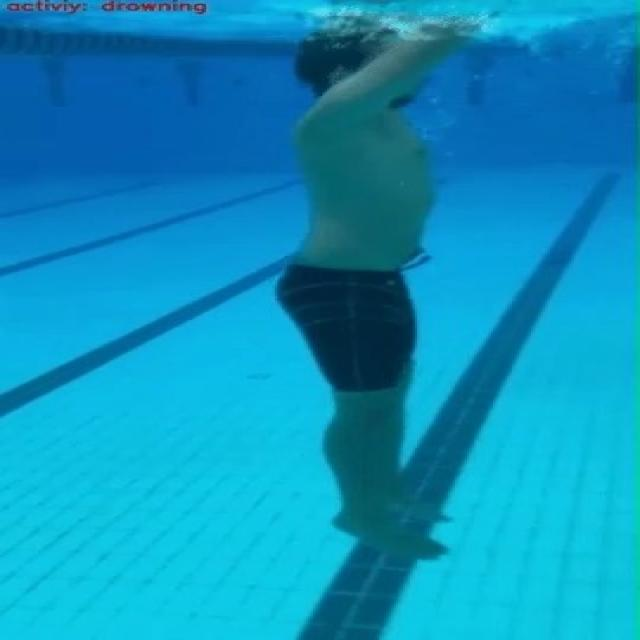Drowning: (267, 7, 510, 564)
